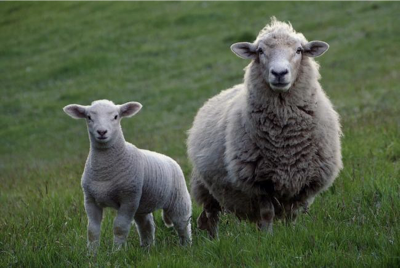koyun: (190, 25, 339, 243), (62, 98, 187, 257)
